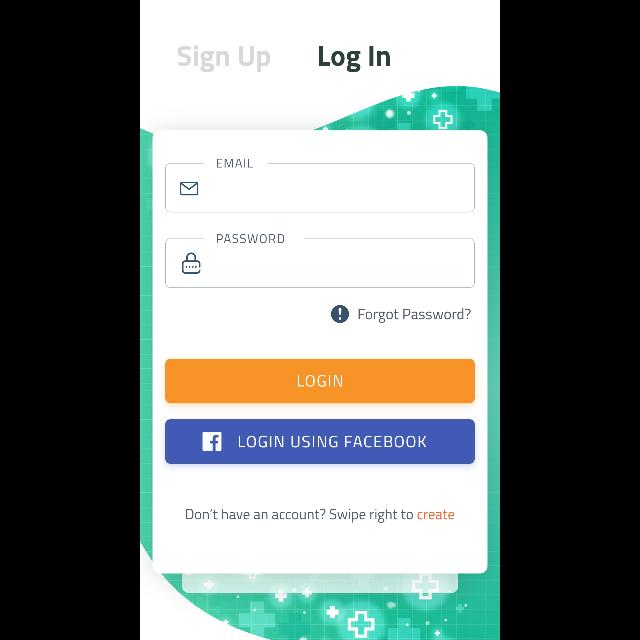icon: (182, 252, 202, 274), (331, 305, 349, 323), (180, 182, 198, 196)
input: (166, 159, 474, 213), (166, 234, 474, 288)
text: (186, 509, 454, 523), (178, 46, 270, 72), (318, 47, 389, 73), (359, 309, 471, 323), (218, 234, 284, 243), (217, 158, 253, 168)
textbutton: (166, 359, 474, 403), (166, 420, 474, 464)
